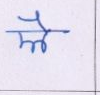au_matra: (28, 11, 53, 52)
